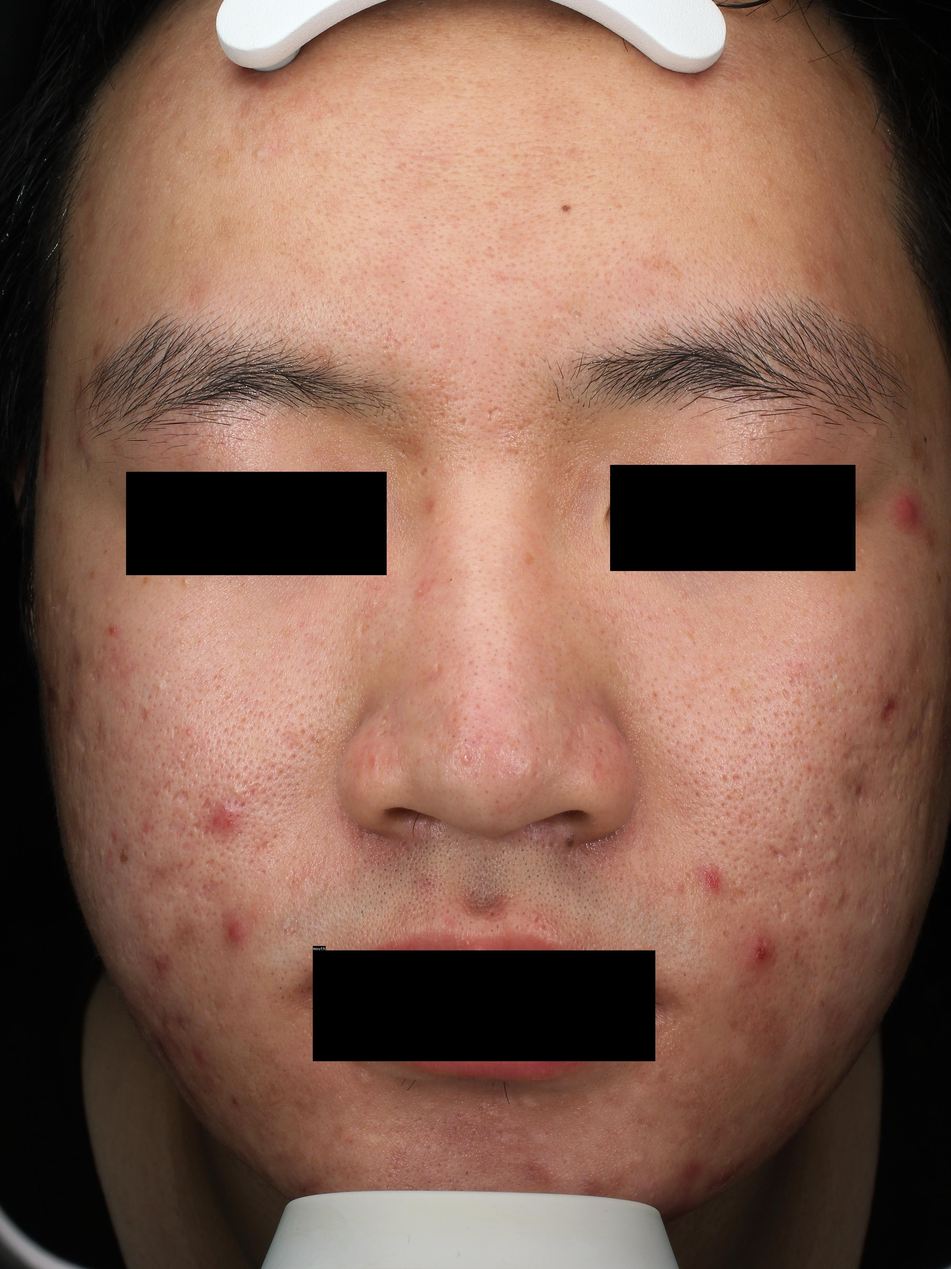atrophic_scar: (905, 691, 933, 758), (780, 869, 814, 896), (811, 798, 842, 825), (764, 841, 793, 869), (93, 643, 116, 675), (907, 644, 929, 675), (196, 879, 221, 903), (210, 821, 233, 847), (412, 172, 439, 194), (72, 718, 89, 751), (279, 730, 303, 753), (91, 721, 107, 754), (834, 889, 854, 915), (205, 997, 225, 1022), (166, 817, 187, 840), (770, 895, 788, 921), (65, 644, 81, 673), (74, 799, 89, 828), (437, 153, 457, 173), (169, 789, 191, 806), (384, 327, 403, 346), (787, 836, 803, 857), (881, 699, 897, 720), (806, 818, 821, 839), (65, 736, 73, 773), (479, 244, 496, 261), (81, 453, 93, 476), (818, 897, 831, 918), (733, 813, 749, 830), (567, 720, 575, 753), (868, 842, 878, 868), (451, 692, 467, 708), (430, 663, 444, 681), (168, 756, 179, 778), (104, 884, 115, 905), (137, 774, 149, 793), (483, 200, 499, 214), (486, 406, 500, 422), (66, 606, 76, 628), (138, 705, 150, 723), (821, 563, 837, 576), (161, 778, 173, 795), (180, 841, 198, 852), (122, 748, 133, 766), (519, 417, 533, 431), (203, 857, 216, 872), (338, 272, 351, 287), (109, 786, 124, 799), (504, 446, 520, 458), (888, 756, 898, 775), (860, 763, 871, 780), (174, 755, 186, 770), (200, 823, 212, 838), (200, 797, 213, 810), (358, 622, 371, 635), (192, 817, 203, 832), (141, 821, 151, 837), (854, 784, 862, 804), (169, 861, 182, 873), (117, 699, 128, 713), (781, 688, 792, 702), (90, 667, 100, 682), (915, 804, 924, 820), (379, 714, 389, 728), (165, 892, 175, 906), (565, 300, 574, 315), (804, 886, 815, 898), (458, 415, 468, 428), (185, 857, 195, 870), (172, 725, 182, 738), (533, 910, 543, 923), (85, 846, 93, 862), (121, 814, 130, 828), (603, 270, 612, 284), (417, 467, 428, 478), (592, 714, 604, 724), (395, 160, 407, 170), (376, 729, 389, 738), (152, 743, 162, 754), (832, 835, 843, 845), (259, 839, 269, 850), (181, 881, 191, 892), (779, 807, 789, 818), (110, 836, 119, 848), (721, 774, 730, 786), (466, 204, 477, 213), (732, 774, 744, 782), (578, 722, 584, 738), (473, 145, 482, 155), (780, 797, 790, 806), (722, 929, 731, 938), (685, 871, 693, 881), (560, 417, 569, 425), (794, 784, 802, 793), (159, 761, 167, 770), (142, 849, 149, 859), (429, 344, 440, 350), (799, 862, 810, 868), (763, 871, 771, 879), (871, 796, 878, 805), (879, 789, 885, 799), (151, 790, 159, 797), (818, 818, 825, 826), (159, 849, 164, 859), (865, 802, 871, 809), (475, 703, 481, 710), (148, 880, 152, 890), (151, 772, 156, 780)
closed_comedo: (356, 1072, 371, 1086), (633, 1154, 647, 1166), (760, 175, 773, 187), (252, 148, 264, 159), (171, 215, 181, 227), (290, 145, 300, 155), (97, 847, 104, 860), (872, 427, 880, 438), (573, 312, 581, 320), (77, 253, 83, 263), (552, 313, 559, 321), (181, 578, 189, 585), (100, 143, 108, 150), (788, 676, 794, 682), (698, 1134, 703, 1139), (71, 630, 75, 634)
hypertrophic_scar: (495, 1131, 524, 1146), (519, 1097, 540, 1110), (825, 848, 842, 861), (230, 785, 243, 798), (738, 723, 751, 735), (157, 680, 165, 690)
melasma: (523, 550, 537, 566), (118, 848, 130, 865), (936, 570, 942, 585), (140, 577, 149, 587), (89, 569, 96, 580), (114, 316, 121, 325), (103, 548, 108, 554)
nevus: (560, 203, 573, 212), (566, 837, 576, 847), (924, 437, 928, 442)
open_comedo: (590, 54, 602, 63), (314, 737, 322, 745), (362, 378, 370, 385), (447, 576, 454, 583), (606, 205, 614, 211), (837, 317, 843, 324), (421, 215, 429, 220), (791, 821, 797, 826), (854, 689, 859, 694), (566, 55, 571, 59), (637, 303, 641, 307)
other: (842, 698, 938, 763)
papule: (889, 493, 920, 527), (225, 919, 249, 946), (747, 938, 770, 966), (715, 1168, 734, 1186), (220, 807, 236, 827), (704, 869, 720, 887), (75, 429, 87, 447), (44, 453, 52, 469), (461, 754, 472, 765), (108, 624, 117, 636), (889, 972, 896, 987), (193, 1049, 203, 1059), (881, 140, 888, 153), (791, 948, 798, 960), (372, 759, 379, 766), (897, 796, 901, 801)
pustule: (186, 729, 193, 735), (417, 588, 424, 594)
